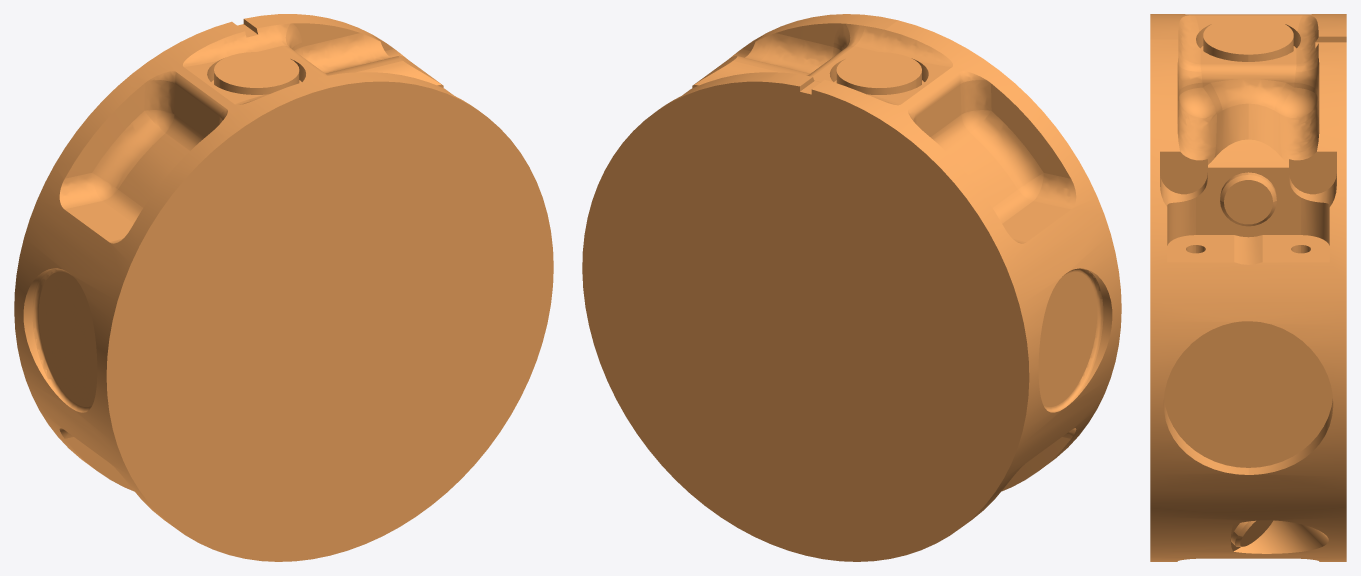
The picture shows the model from 3 angles, left to right: view 1: azimuth 30°, elevation 25°; view 2: azimuth 150°, elevation 25°; view 3: azimuth 270°, elevation 25°; orthographic projection. The views are drawn at different scales.
Visible parts, largest first — view 1: mesh_0; view 2: mesh_0; view 3: mesh_0.
Boxes of the visible parts, x1=… form: mesh_0: x1=14, y1=14, x2=553, y2=561; mesh_0: x1=582, y1=14, x2=1121, y2=561; mesh_0: x1=1150, y1=14, x2=1346, y2=561.
Size of the model in its own units: 0.1146 by 0.1146 by 0.041.
